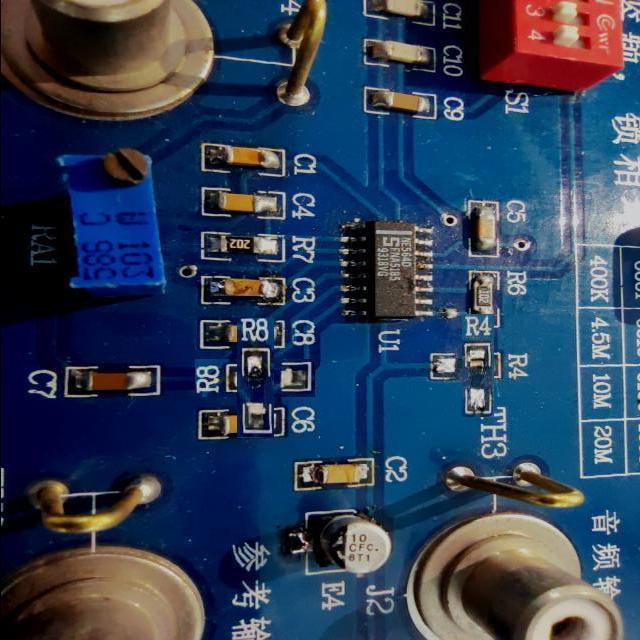miss_welding: (216, 338, 295, 418), (444, 332, 512, 399)
